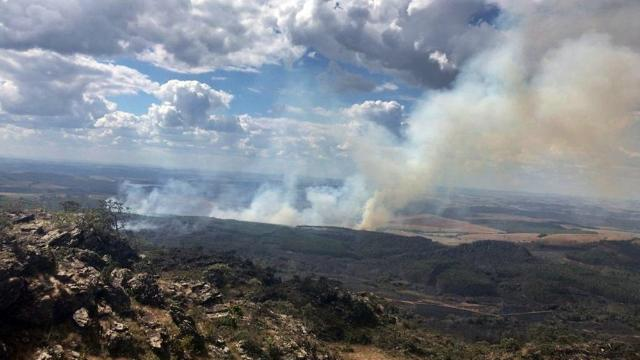smoke: (358, 31, 640, 230), (112, 177, 369, 229)
